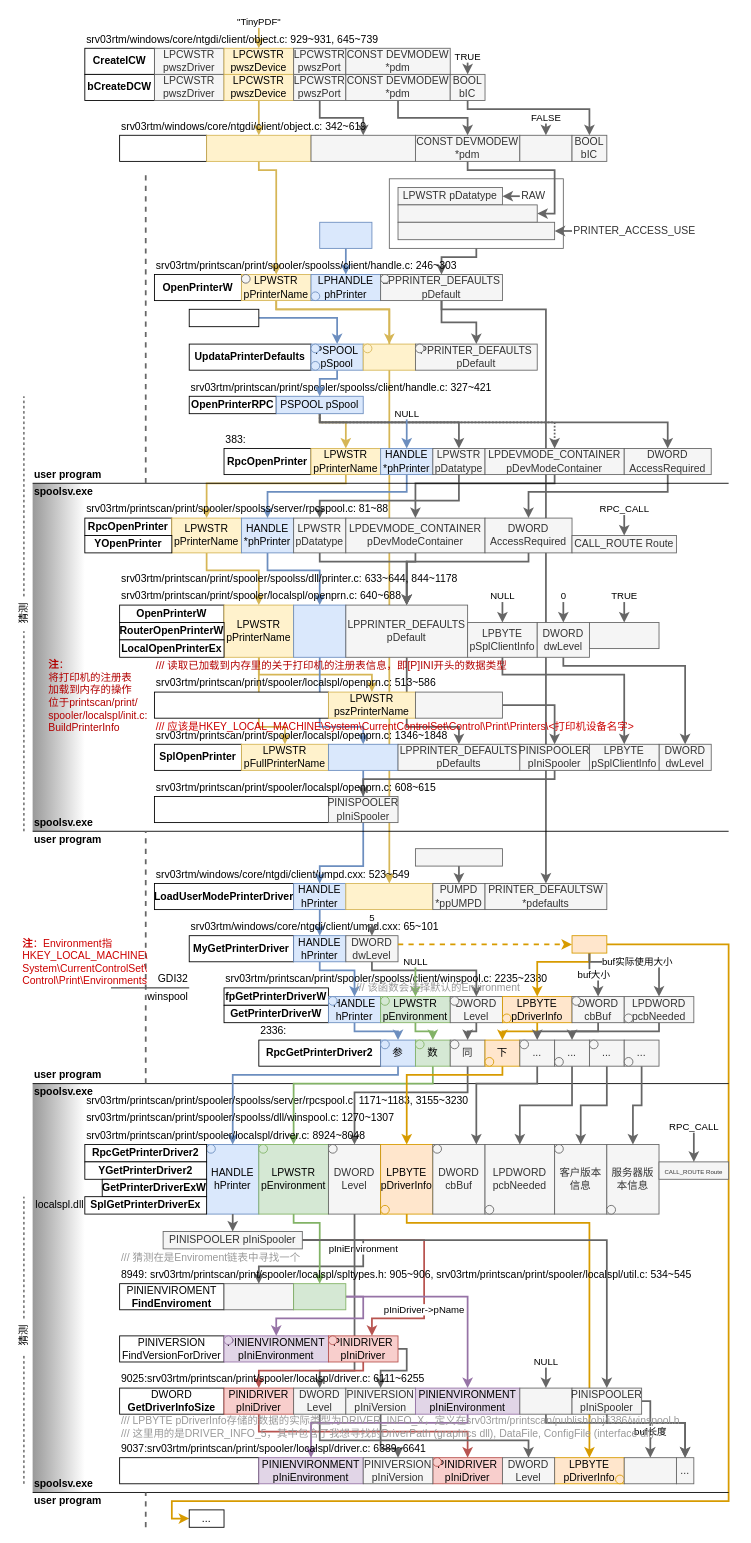
This 751x1543 diagram has some shape labels left out. The box of each missing label's shape, as (x1, y1, x2, y2) in pixels:
ACCESS_MASK DesiredAccess: (397, 221, 555, 240)
AllocSpool: (188, 308, 259, 327)
BOOL bDisplay: (519, 134, 572, 161)
BOOL bLocalProvidor: (589, 622, 659, 649)
buf: (571, 935, 607, 953)
HANDLE *pHandle: (293, 604, 346, 657)
HANDLE hSpooler: (319, 221, 372, 248)
hdcCreateDCW: (119, 134, 207, 161)
LocalFindSpoolerByNameDecRef: (154, 796, 328, 823)
LocalFindSpoolerByNameIncRef: (154, 691, 328, 718)
LPBYTE CopyIniDriverToDriverInfo: (119, 1457, 259, 1484)
LPBYTE pEnd: (623, 1457, 676, 1484)
LPCTSTR pszPrinter: (362, 343, 415, 370)
LPDEVMODEW pDevMode: (397, 204, 537, 222)
LPHANDLE pPrinterHandle: (328, 743, 398, 770)
LPTSTR *ppszLocalName: (415, 691, 502, 718)
LPWSTR lpRemote: (519, 1387, 572, 1414)
LPWSTR pName: (293, 1283, 346, 1310)
LPWSTR pwstrPrinterName: (345, 883, 433, 910)
PINIENTRY pIniEntry: (223, 1283, 294, 1310)
PUMPD pUMPD: (415, 848, 502, 866)
PUNICODE_STRING pustrDevice: (206, 134, 311, 161)
PUNICODE_STRING pustrPort: (310, 134, 415, 161)
